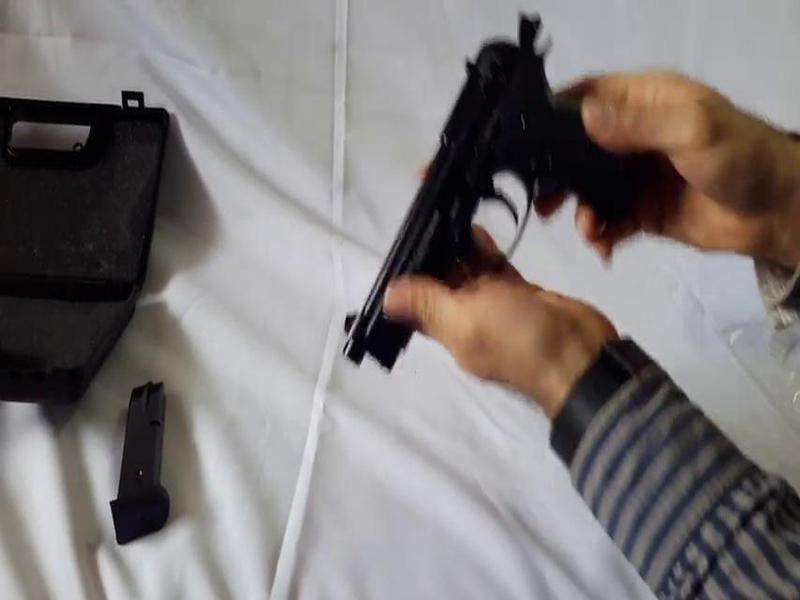Pistola: (334, 7, 642, 369)
